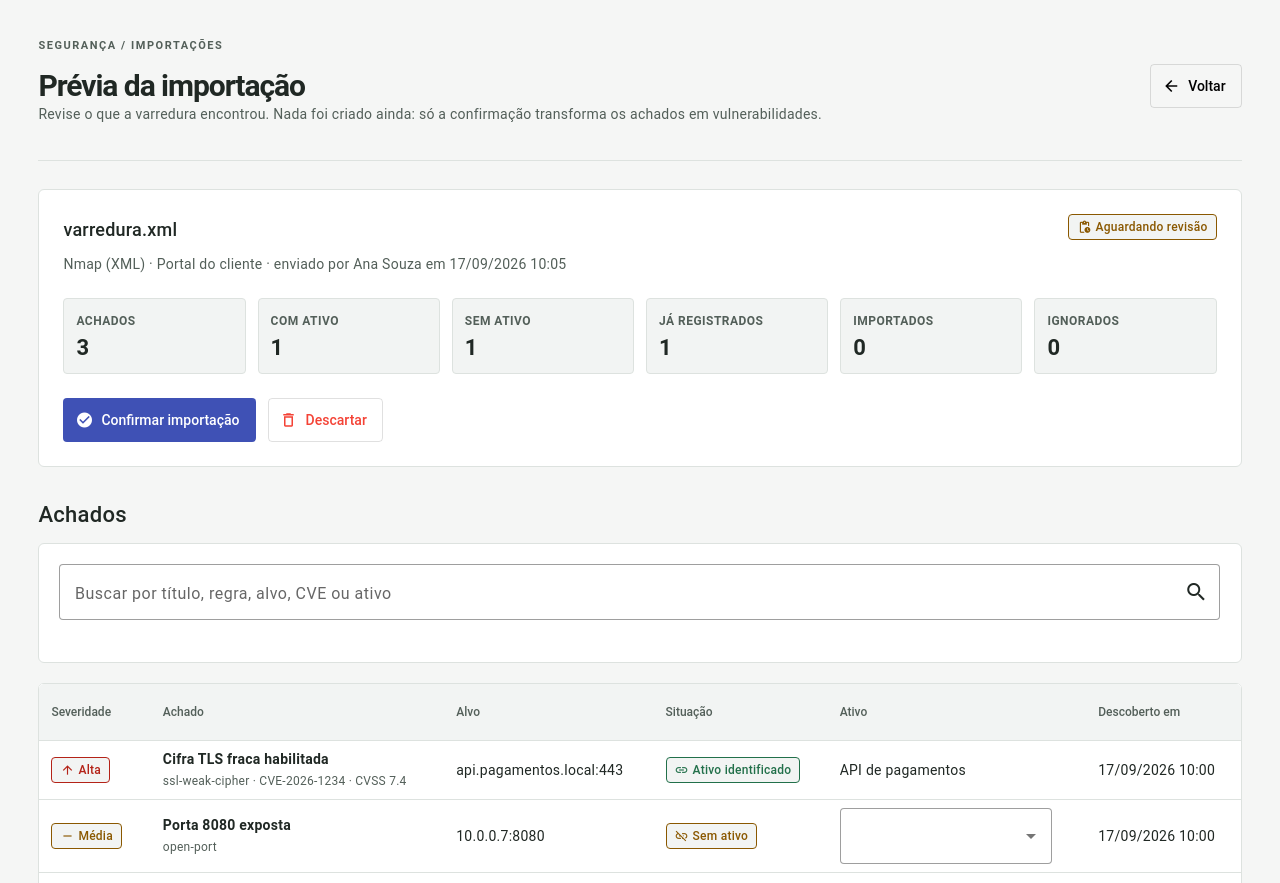
it: ImportPreviewComponent › um CONFLICT no confirmar recarrega a importação e explica o que houve
What coordinates should you click on to do the following:
click the button "Confirmar importação"
I would click on:
 (160, 420)
Its box is x1=63 y1=398 x2=256 y2=442.
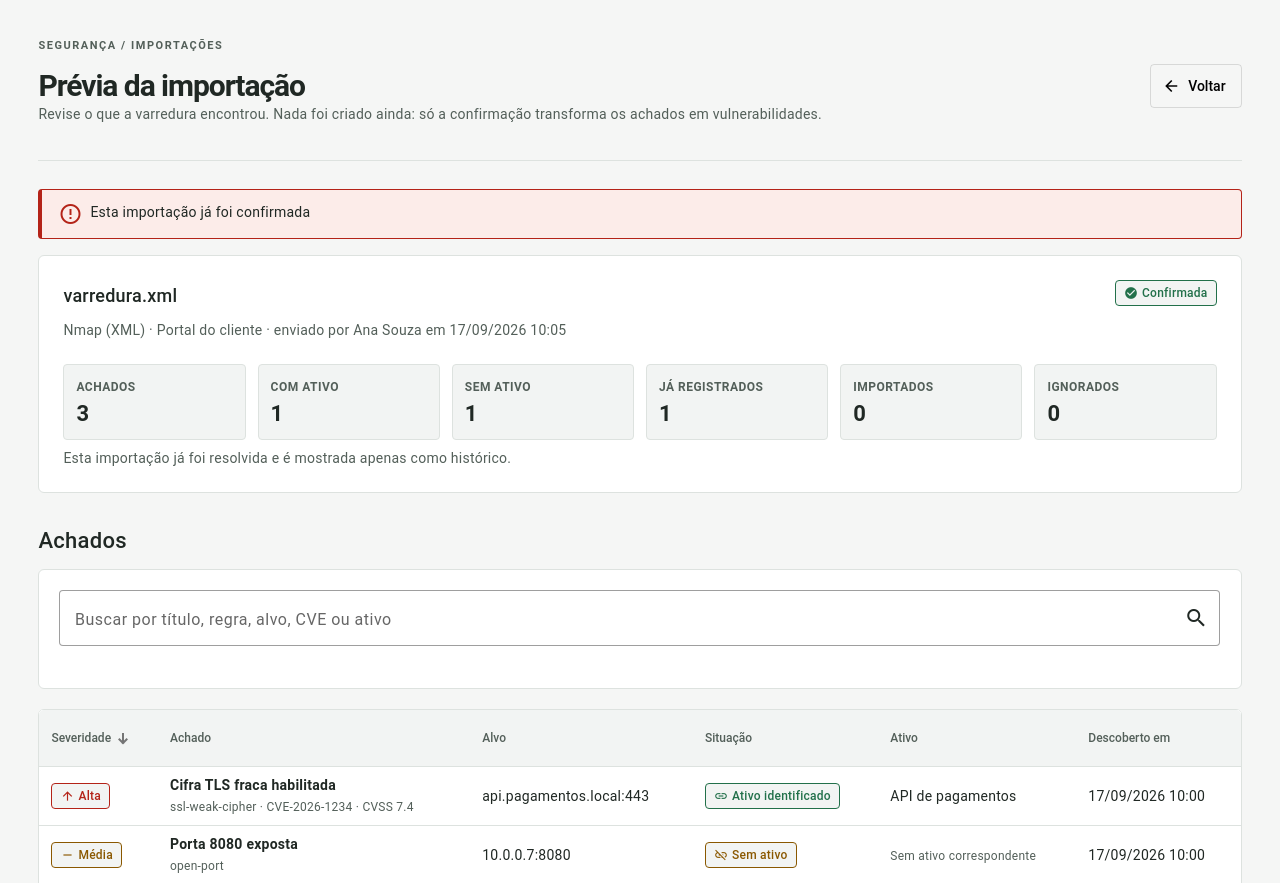
Result: the text "Esta importação já foi confirmada" is shown at x1=90 y1=202 x2=310 y2=222
